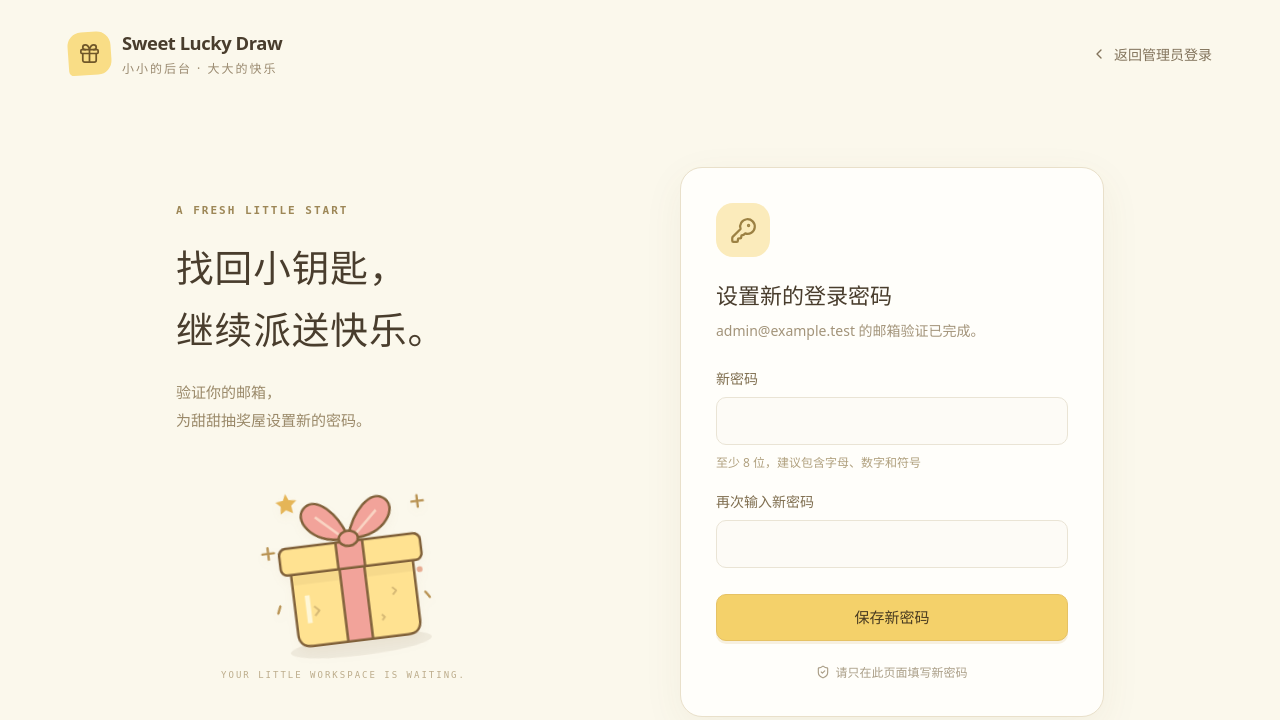
password recovery › rejects mismatched confirmation and sends no password update
Type "example-password-1" into the password field labelled "新密码".
click(892, 421); type("example-password-1")  # box [716, 397, 1068, 445]
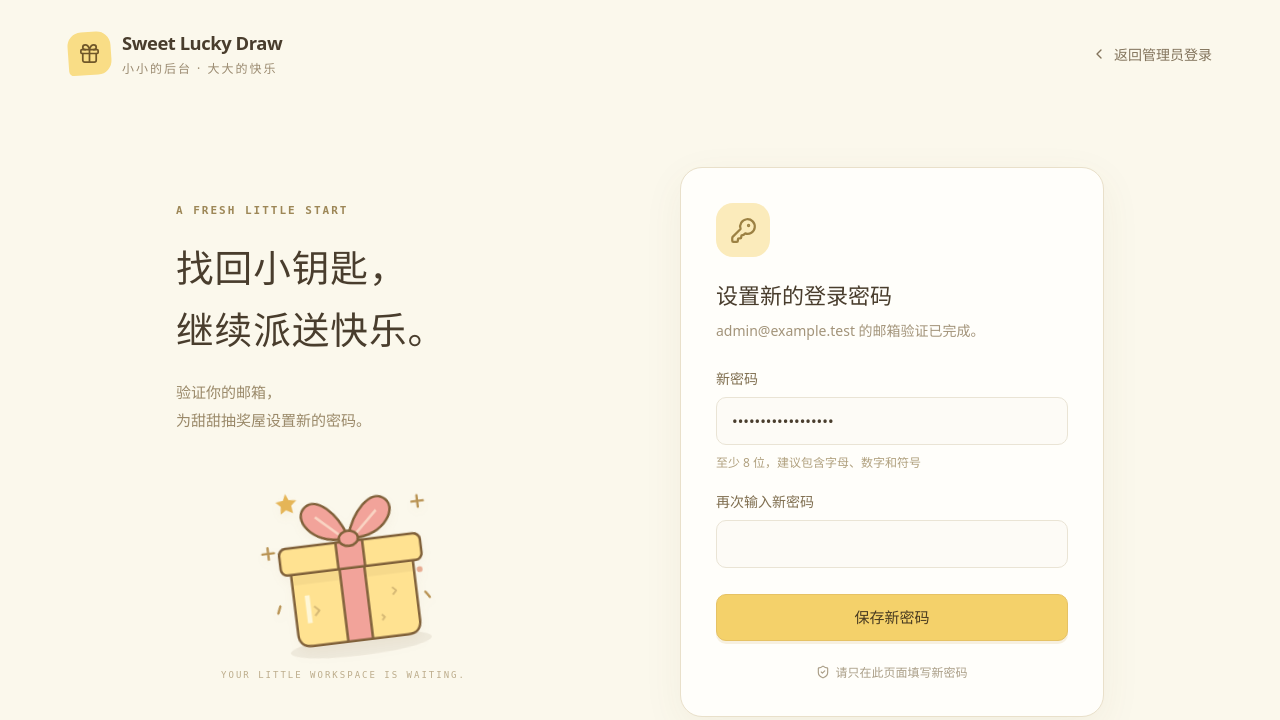
Type "example-password-2" into the password field labelled "再次输入新密码".
click(892, 544); type("example-password-2")  # box [716, 520, 1068, 568]
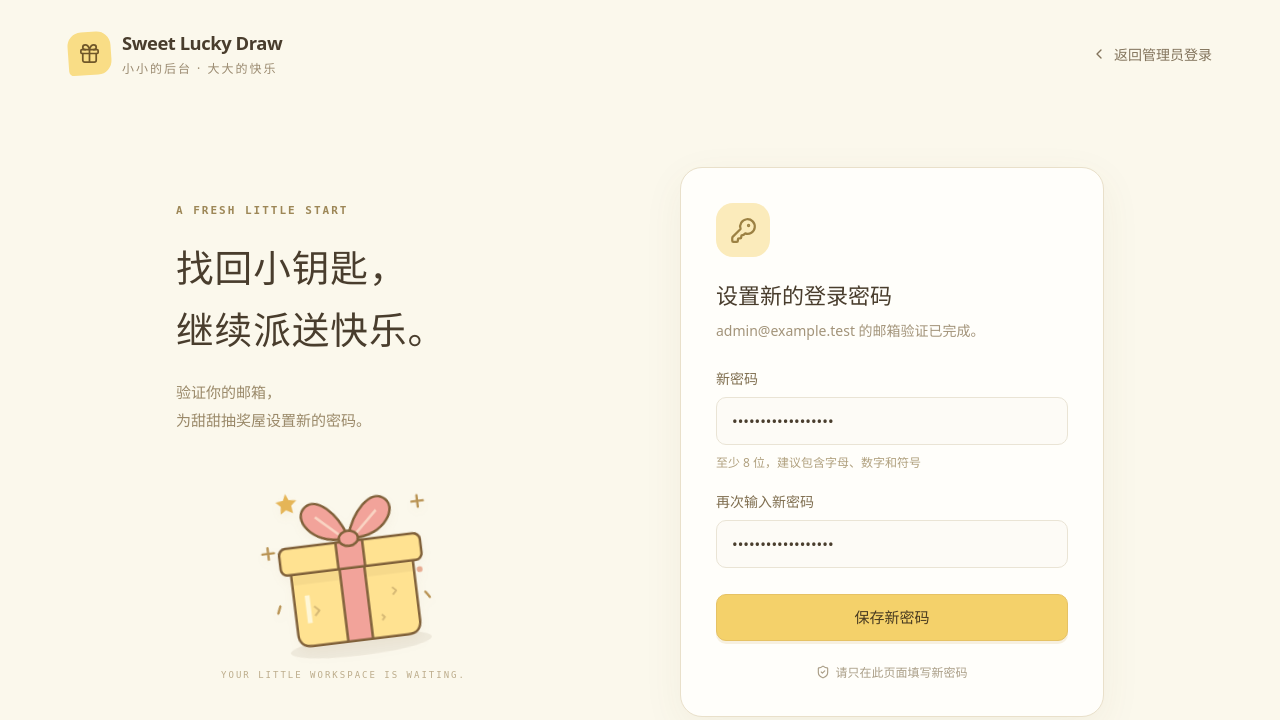
Click the button "保存新密码".
click(892, 618)  # box [716, 594, 1068, 641]
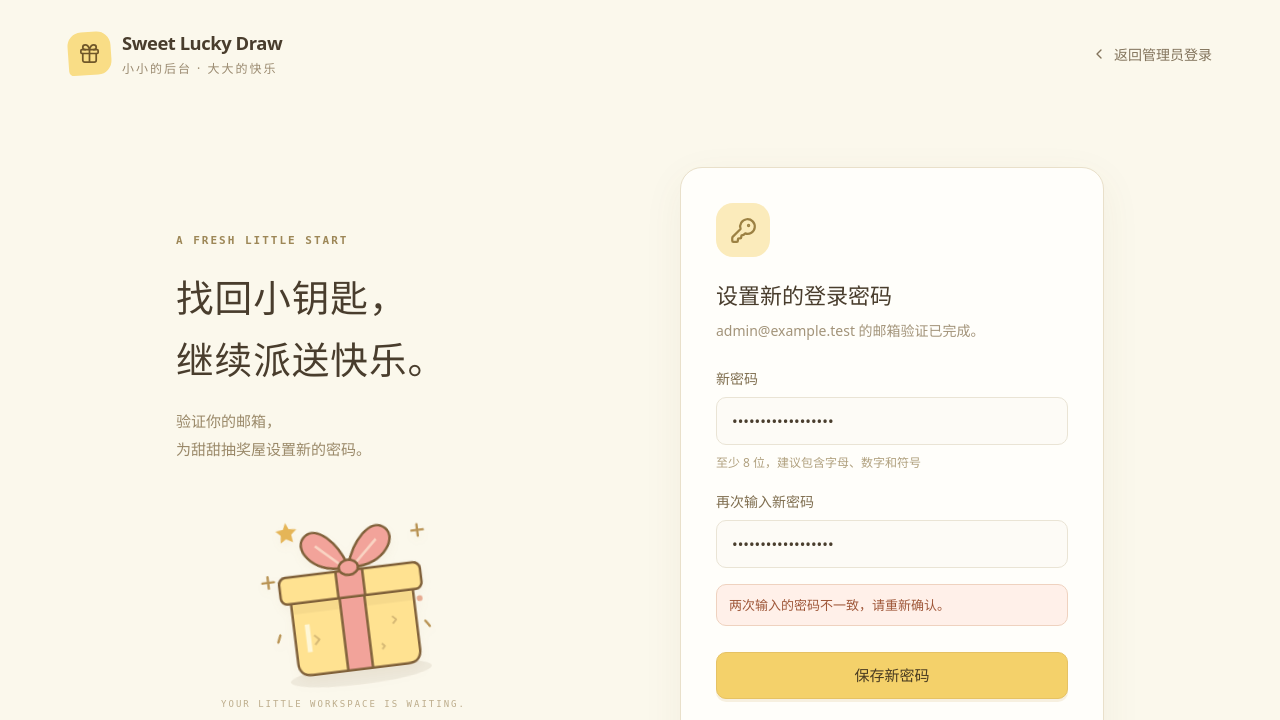
Check: the message shows "两次输入的密码不一致", box [729, 596, 950, 614]
